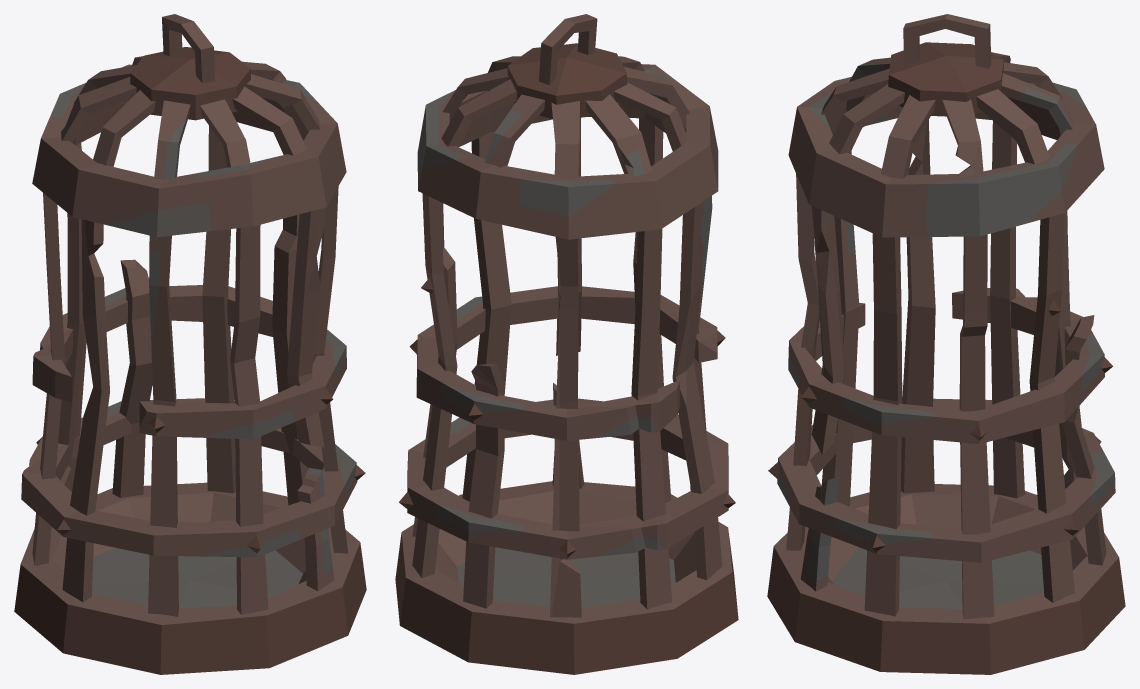
File: SM_Prop_Prisoner_Cage_01.fbx
3 views of the same model, side by side, from view 1: azimuth 30°, elevation 25°; view 2: azimuth 150°, elevation 25°; view 3: azimuth 270°, elevation 25° (orthographic).
Visible parts, largest first — view 1: SM_Prop_Prisoner_Cage_01; view 2: SM_Prop_Prisoner_Cage_01; view 3: SM_Prop_Prisoner_Cage_01.
Part boxes in pixels (x1,y1,x2,y2): SM_Prop_Prisoner_Cage_01: (14,14,366,674); SM_Prop_Prisoner_Cage_01: (395,14,738,674); SM_Prop_Prisoner_Cage_01: (767,14,1125,674).
Size of the model in its own units: 116 by 224 by 119.
